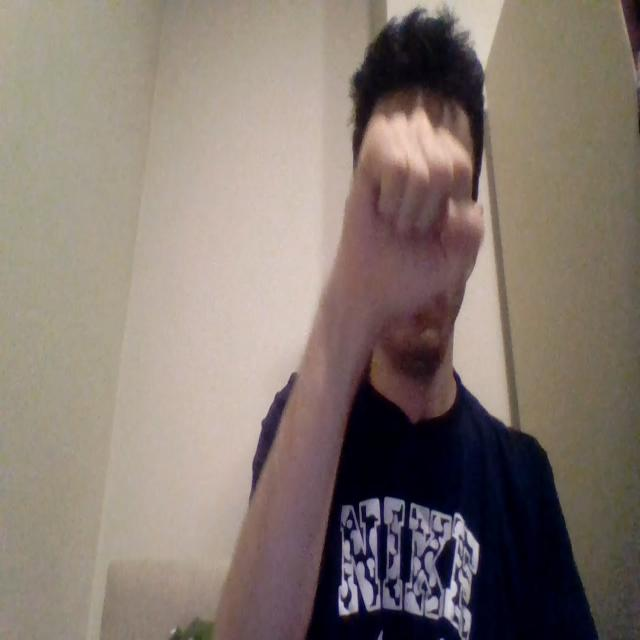yes: (330, 105, 485, 377)
